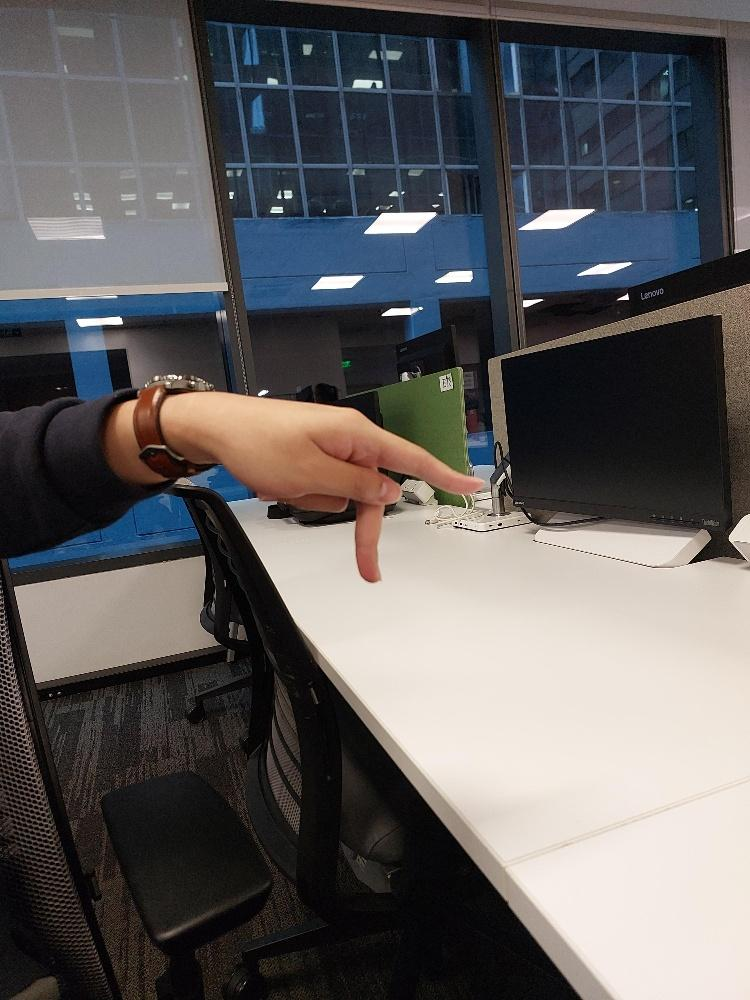p: (244, 399, 484, 581)
